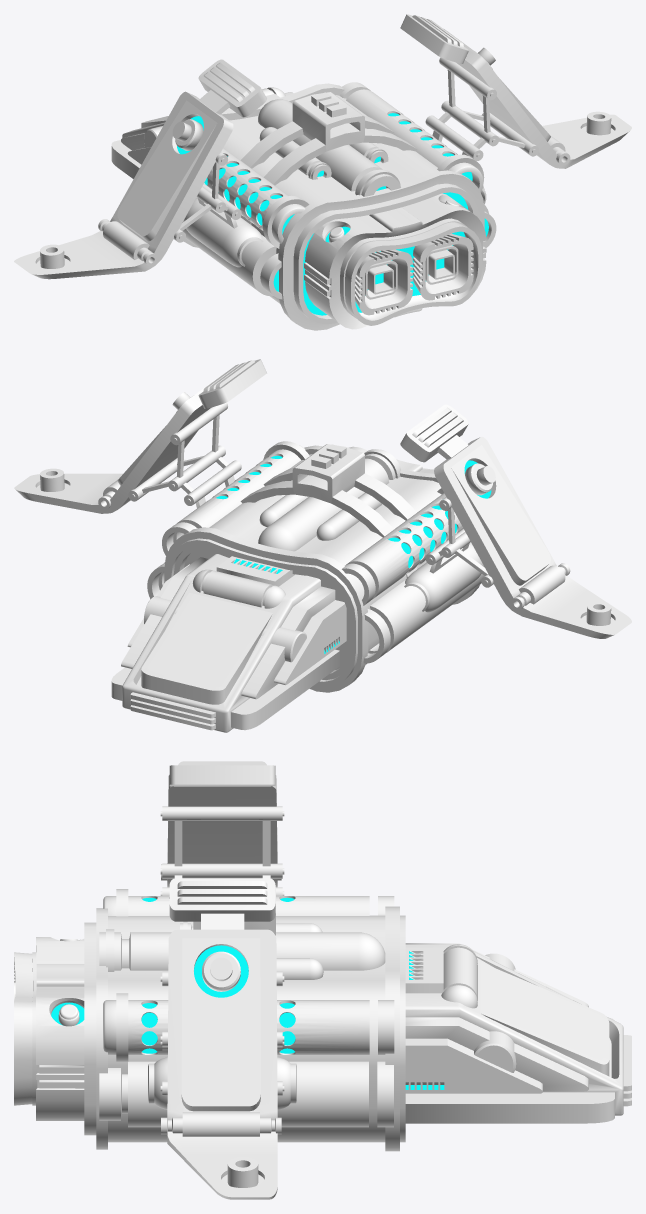
The model's file is ship_001.glb.
The picture shows the model from 3 angles, top to bottom: view 1: azimuth 30°, elevation 25°; view 2: azimuth 150°, elevation 25°; view 3: azimuth 270°, elevation 25°; orthographic projection. The views are drawn at different scales.
Parts seen in each view (by area): view 1: Mesh; view 2: Mesh; view 3: Mesh.
Part boxes in pixels (box(x1,y1,x2,y2)): Mesh: box(14, 14, 631, 330); Mesh: box(14, 359, 631, 732); Mesh: box(14, 761, 631, 1199).
Bounding box in the file's own units: 31.74 × 11.66 × 22.42.
